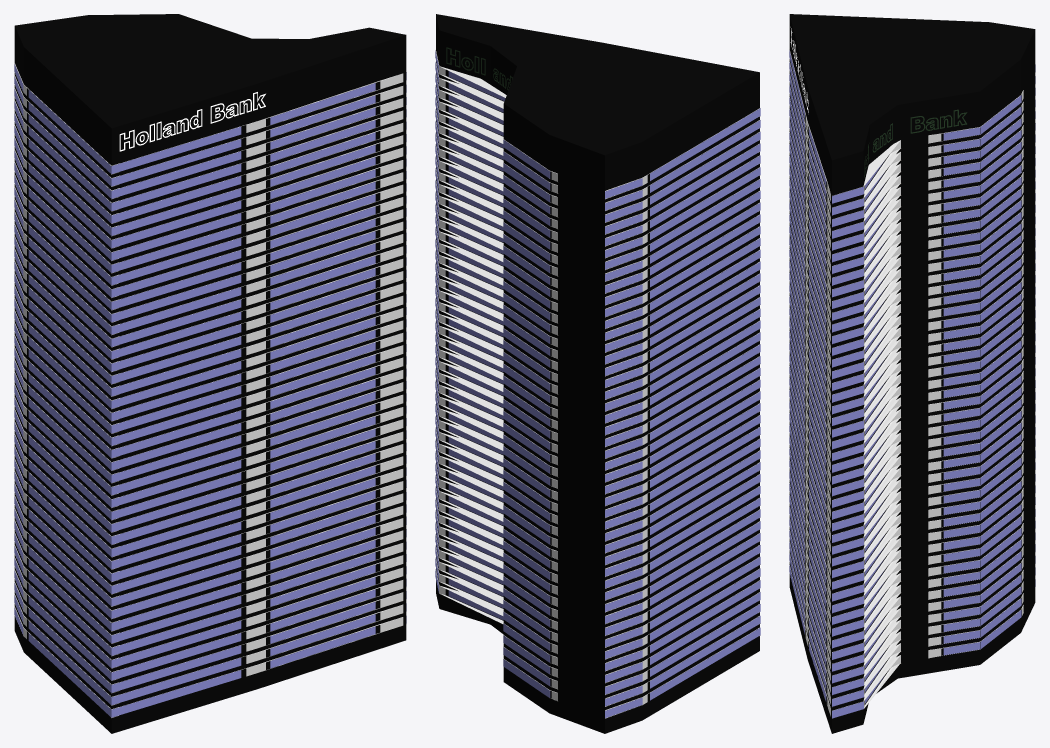
File: HollandBankWestInsburyDivisionHQ.fbx
3 views of the same model, side by side, from view 1: azimuth 30°, elevation 25°; view 2: azimuth 150°, elevation 25°; view 3: azimuth 270°, elevation 25° (orthographic). The views are drawn at different scales.
Visible parts, largest first — view 1: Window.003, HollandBankDivisionHQ, Window.002, Text; view 2: HollandBankDivisionHQ, Window.002, Window, Window.001, HOLLAND; view 3: HollandBankDivisionHQ, Window.001, Window, Window.003, BANK.
Part boxes in pixels (left/top/right/bottom): Window.003: left=111, top=73, right=403, bottom=717; HollandBankDivisionHQ: left=14, top=14, right=406, bottom=733; Window.002: left=14, top=63, right=111, bottom=717; Text: left=119, top=92, right=265, bottom=151; HollandBankDivisionHQ: left=436, top=14, right=759, bottom=733; Window.002: left=605, top=108, right=760, bottom=718; Window: left=435, top=49, right=506, bottom=623; Window.001: left=503, top=139, right=557, bottom=701; HOLLAND: left=446, top=47, right=512, bottom=90; HollandBankDivisionHQ: left=789, top=14, right=1035, bottom=733; Window.001: left=928, top=90, right=1023, bottom=658; Window: left=832, top=140, right=901, bottom=718; Window.003: left=789, top=49, right=830, bottom=716; BANK: left=910, top=109, right=967, bottom=133.
Bounding box in the file's own units: 7690 × 14000 × 5451.
